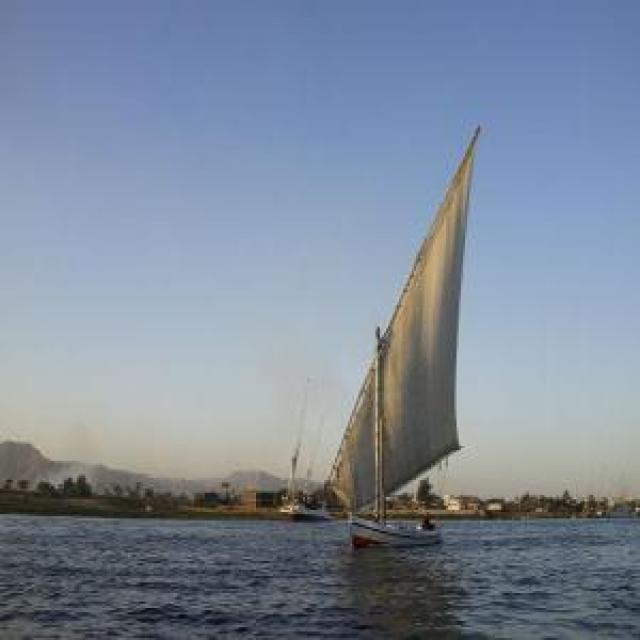sailboat: (335, 118, 478, 547)
